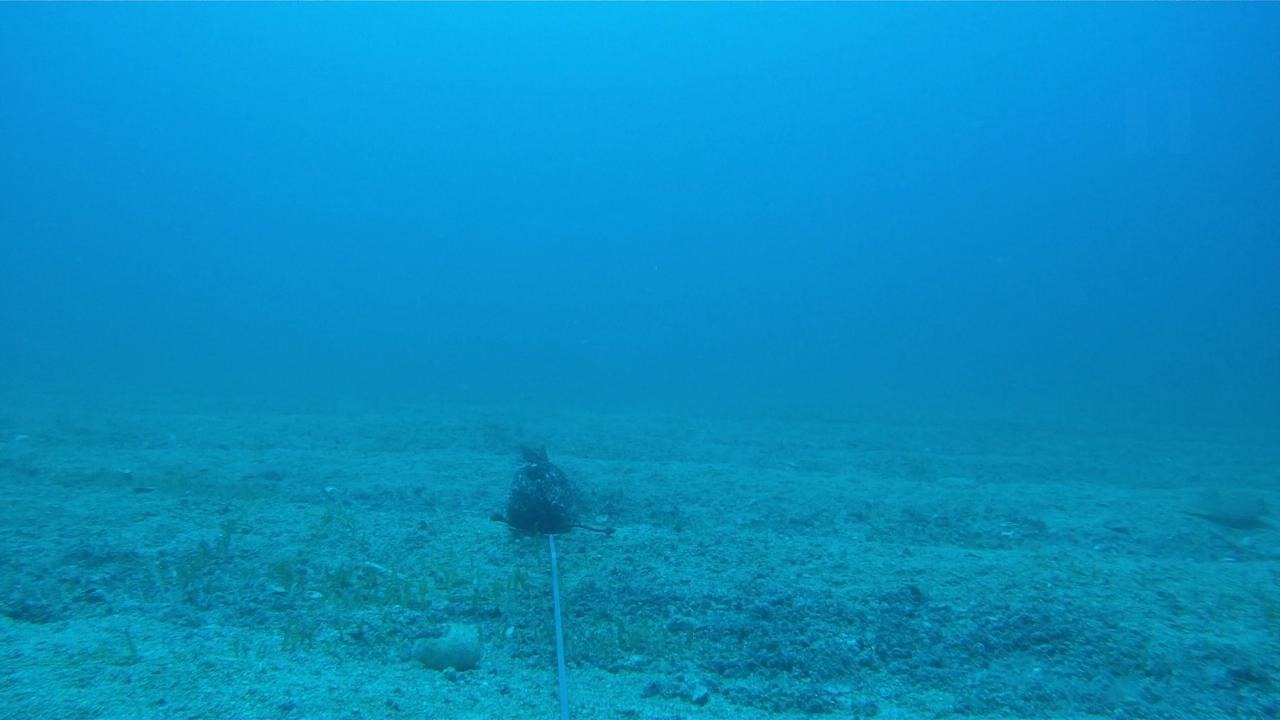bothus: (1173, 482, 1268, 526)
